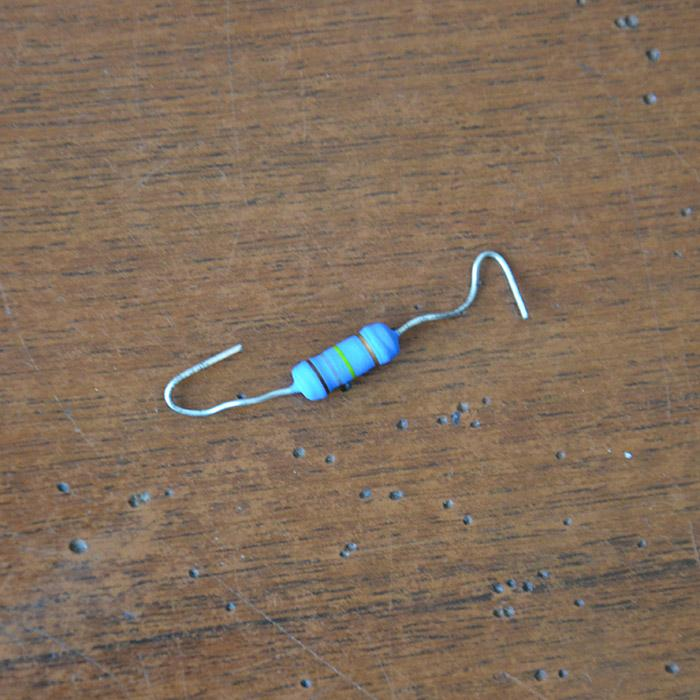resistor: (290, 320, 401, 400)
